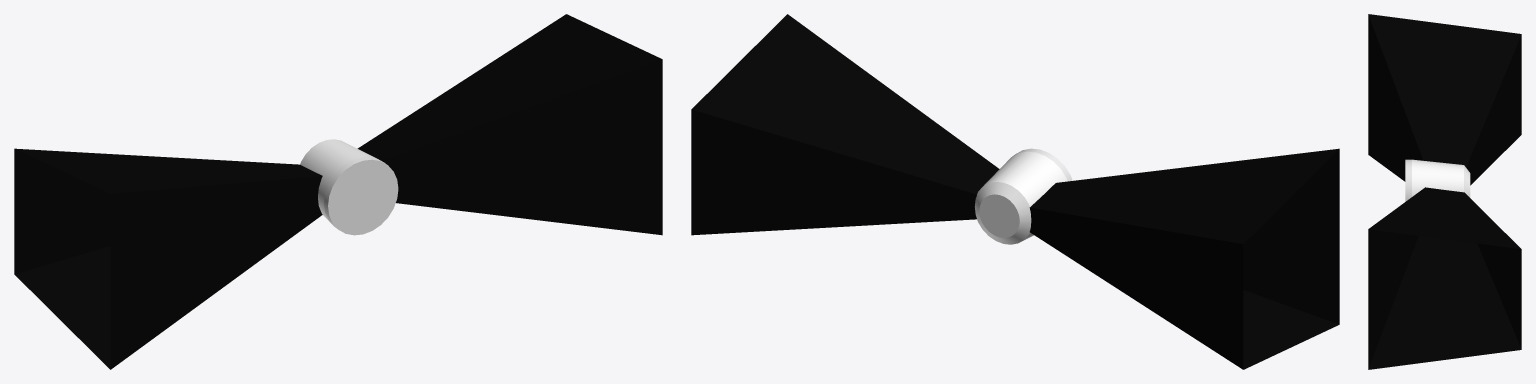
The model's file is Light_JingShiDeng_1X1_on.FBX.
3 views of the same model, side by side, from view 1: azimuth 30°, elevation 25°; view 2: azimuth 150°, elevation 25°; view 3: azimuth 270°, elevation 25° (orthographic). The views are drawn at different scales.
Parts seen in each view (by area): view 1: Box002; view 2: Box002; view 3: Box002.
Boxes of the visible parts, x1,y1,x2,y2 form: Box002: (14, 14, 662, 369); Box002: (691, 14, 1339, 369); Box002: (1368, 14, 1521, 369).
Bounding box in the file's own units: 7.83 × 2.39 × 2.36.
